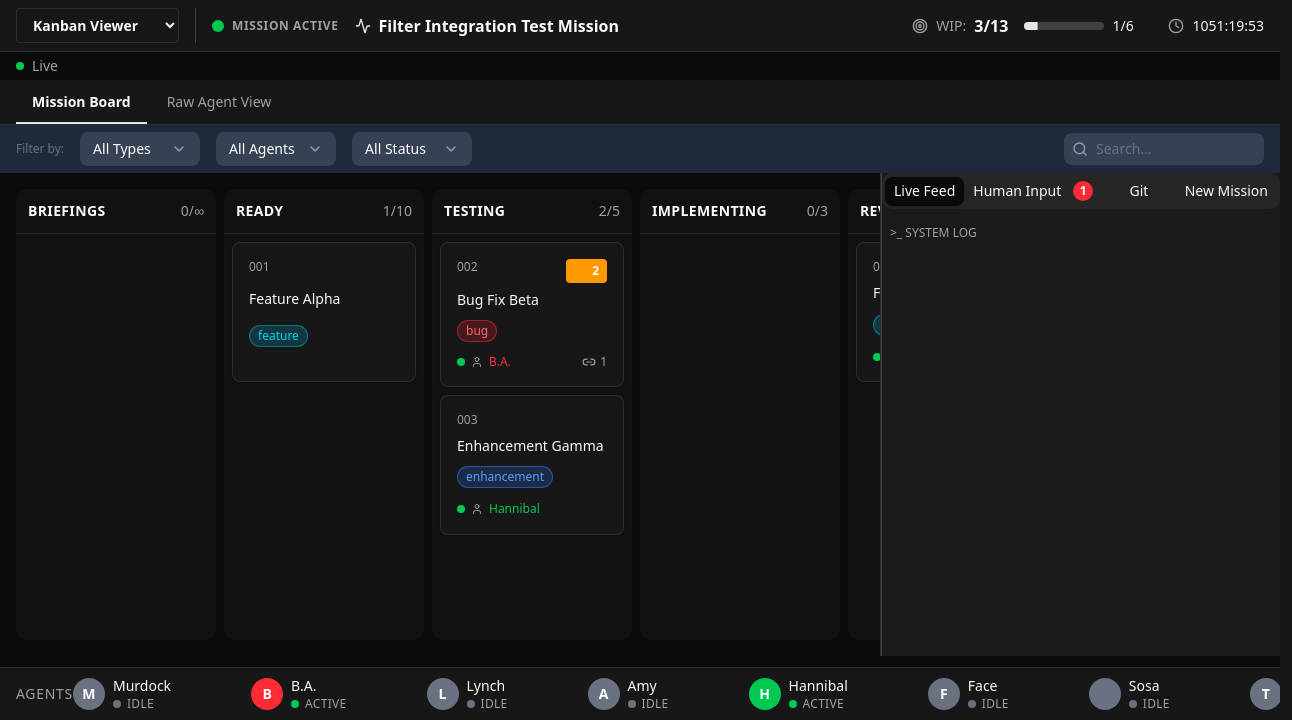
Page Filter Integration (Item 009) › Filter changes update display without page reload › should reset to show all items when filter is cleared
Expected: the text "Feature Alpha" is shown, [249,288,340,308]
Note: Apply a filter
Click the button with test id "type-filter-dropdown": click(140, 149) [80,132,200,166]
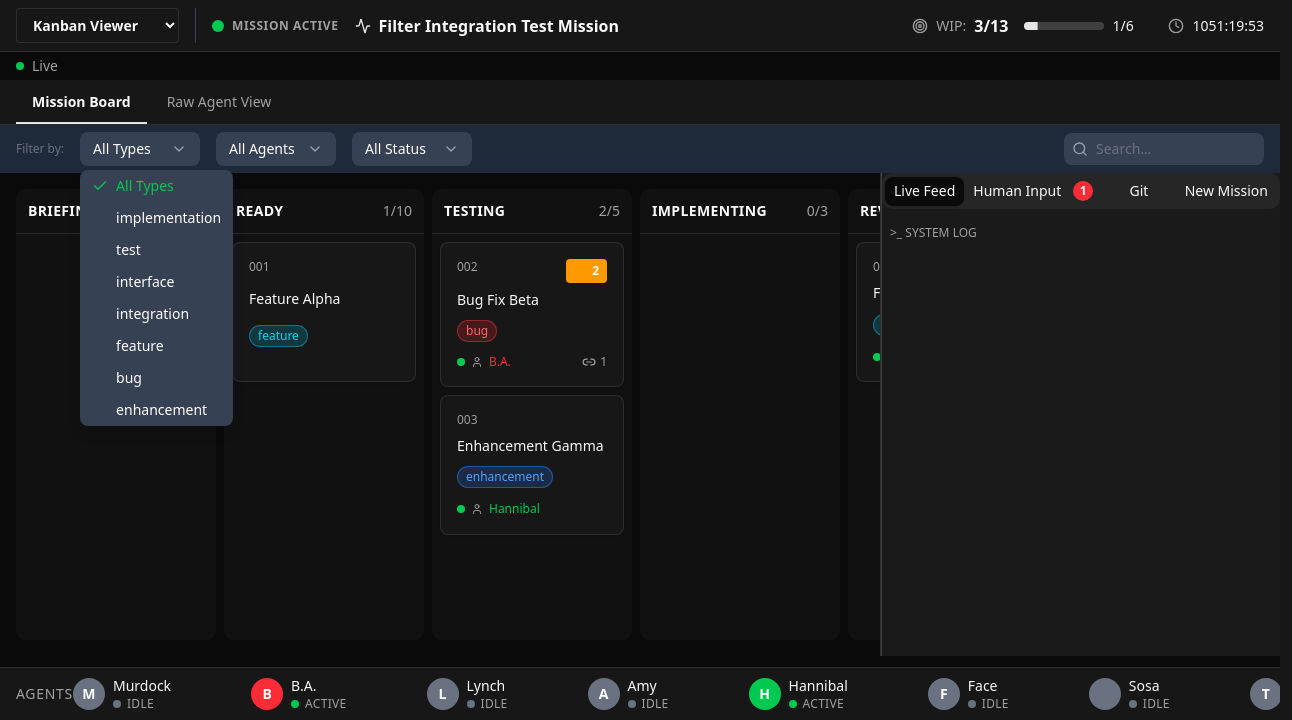
Click the option "bug": click(129, 378) [116,368,142,387]
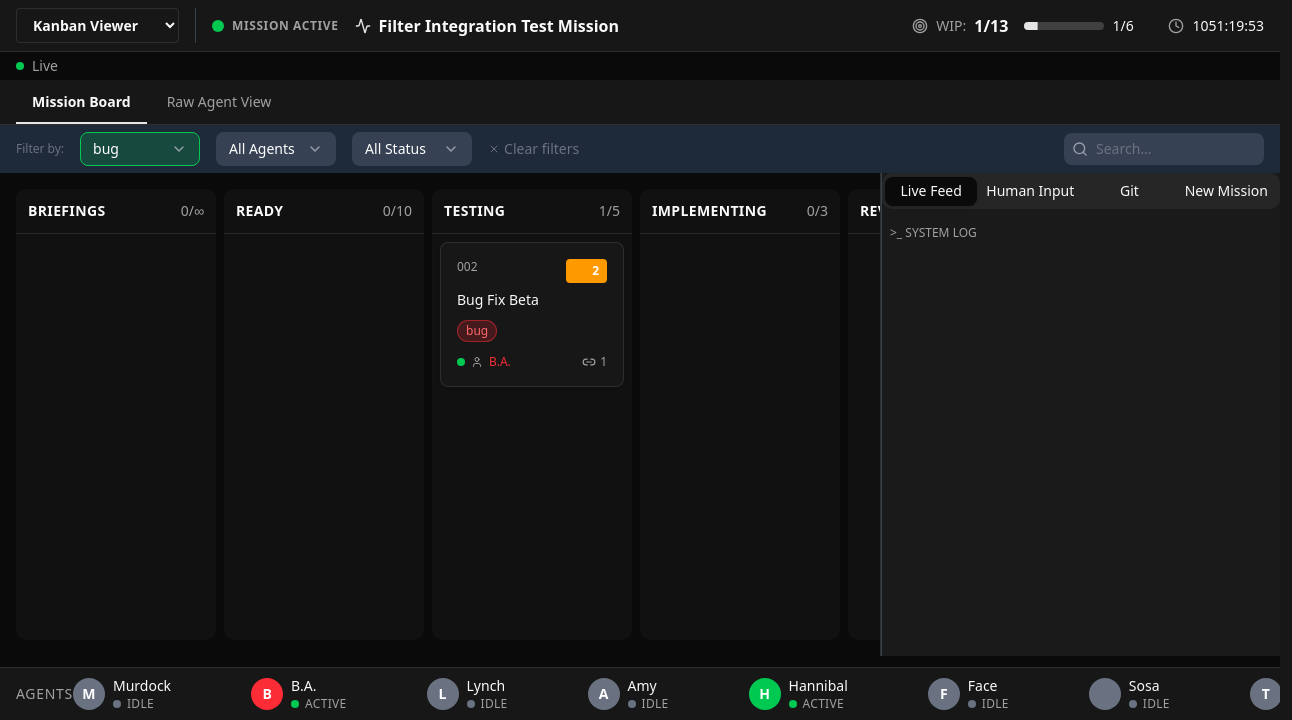
Expected: the text "Feature Alpha" is gone
Note: Clear filter by selecting 'All Types'
Click the button with test id "type-filter-dropdown": click(140, 149) [80,132,200,166]
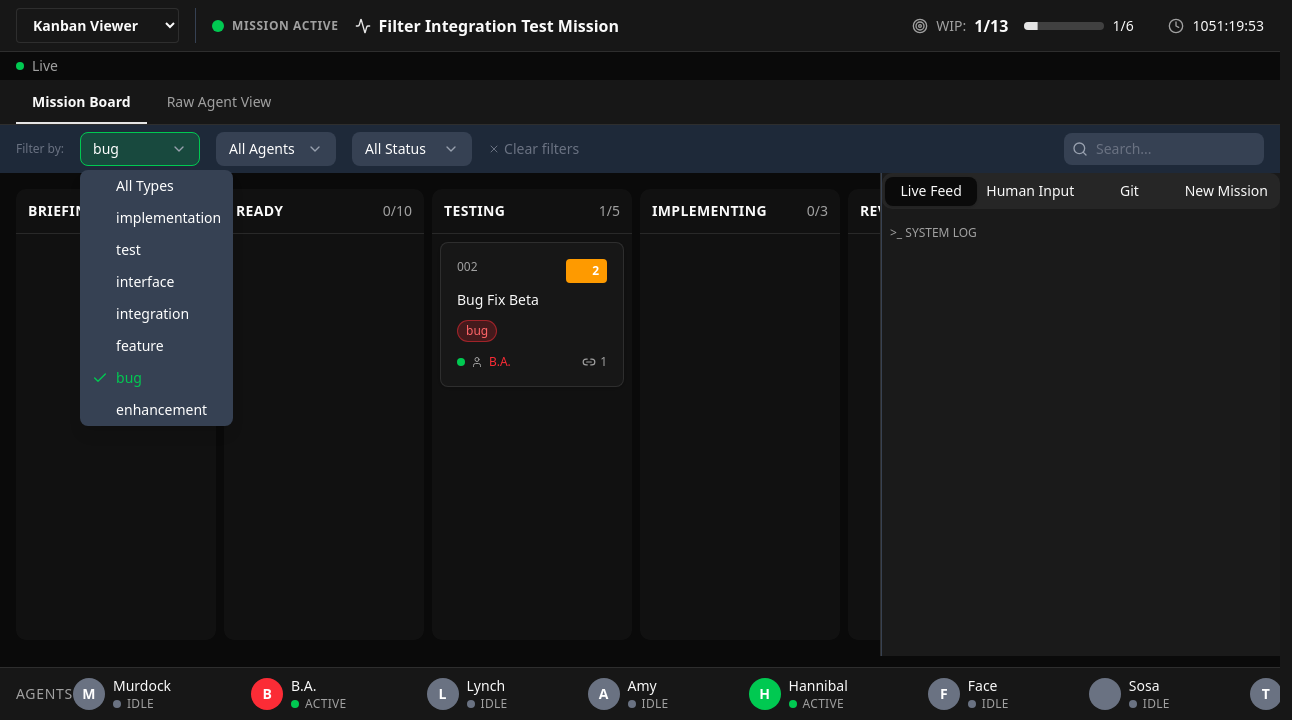
Click the option "All Types": click(145, 186) [116,176,174,195]
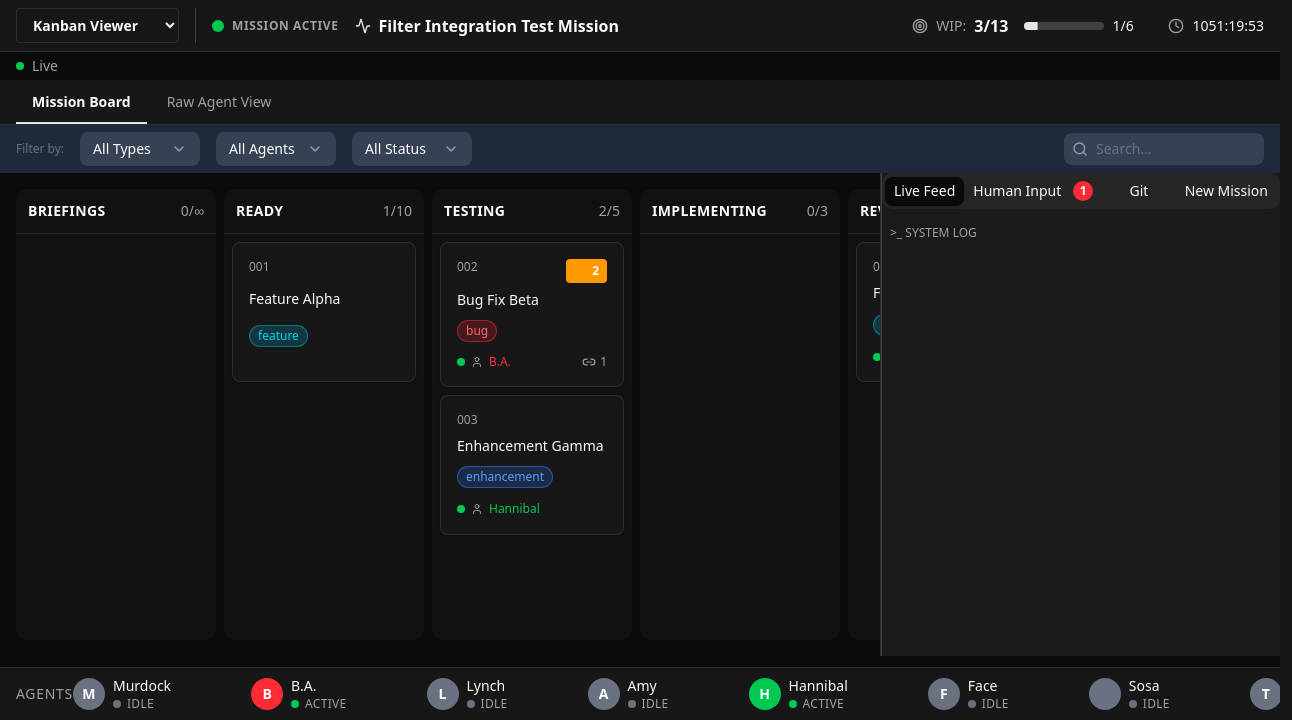
Expected: the text "Bug Fix Beta" is shown, [457,290,539,309]
Expected: the text "Feature Alpha" is shown, [249,288,340,308]
Expected: the text "Enhancement Gamma" is shown, [457,437,607,454]
